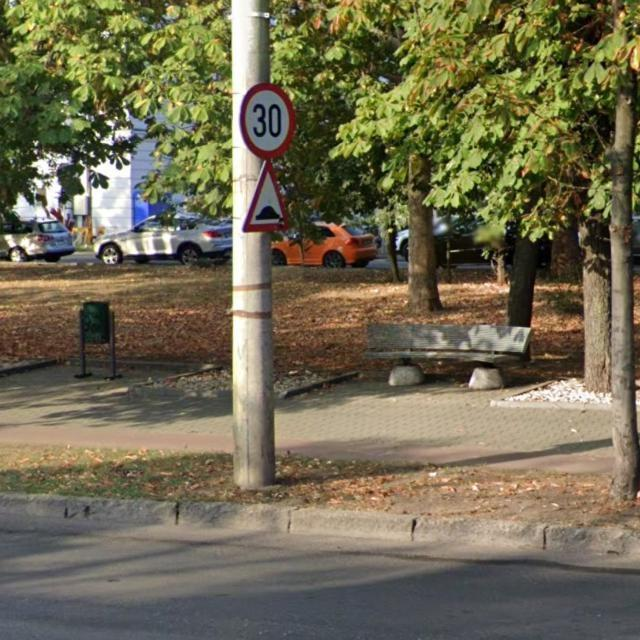forb_speed_over_30: (238, 79, 295, 156)
